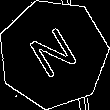N_SE: (23, 22, 83, 86)
